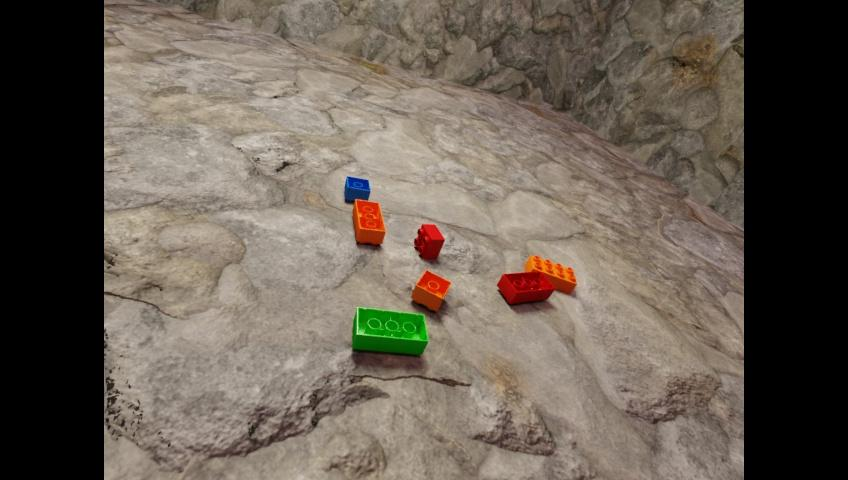2x2_blue: (344, 175, 369, 201)
2x2_orange: (410, 269, 450, 311)
2x2_red: (413, 224, 444, 259)
4x2_green: (352, 306, 428, 354)
4x2_orange: (525, 254, 576, 294), (352, 199, 385, 243)
4x2_red: (496, 271, 554, 304)
